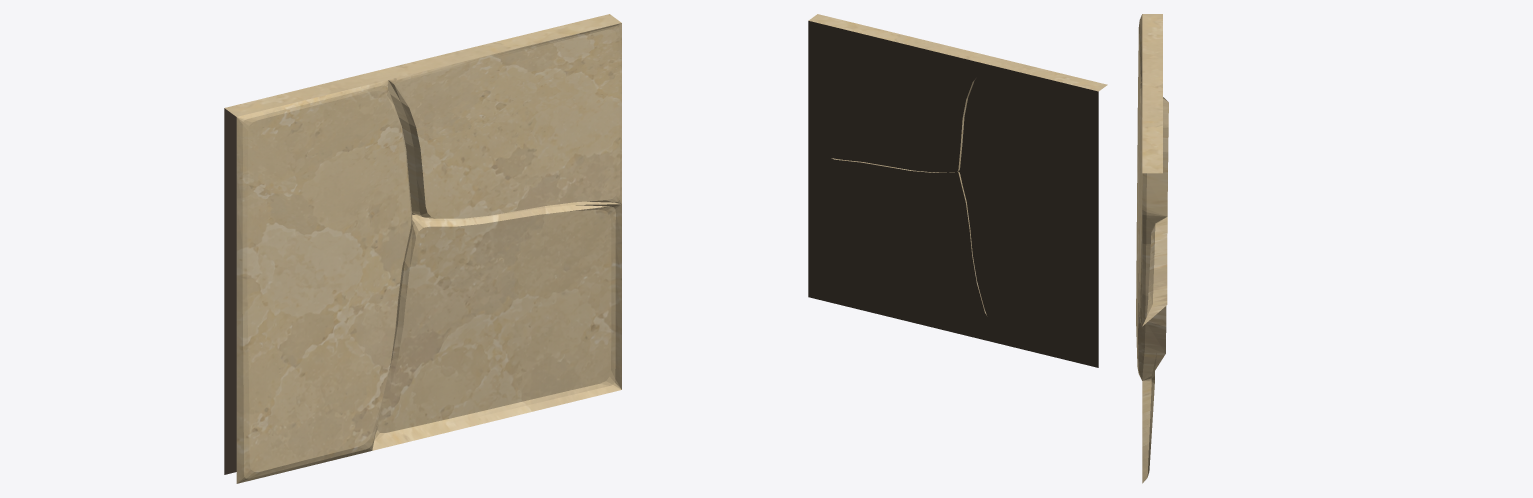
The model's file is ground_edge_03.glb.
3 views of the same model, side by side, from view 1: azimuth 30°, elevation 25°; view 2: azimuth 150°, elevation 25°; view 3: azimuth 270°, elevation 25° (orthographic). The views are drawn at different scales.
Visible parts, largest first — view 1: GroundEdge03_Body; view 2: GroundEdge03_Body; view 3: GroundEdge03_Body.
Part boxes in pixels (x1,y1,x2,y2): GroundEdge03_Body: (224, 14, 621, 483); GroundEdge03_Body: (808, 14, 1107, 367); GroundEdge03_Body: (1136, 14, 1168, 483).
Size of the model in its own units: 1 by 0.91 by 1.02.
5 materials, 4 textured.
